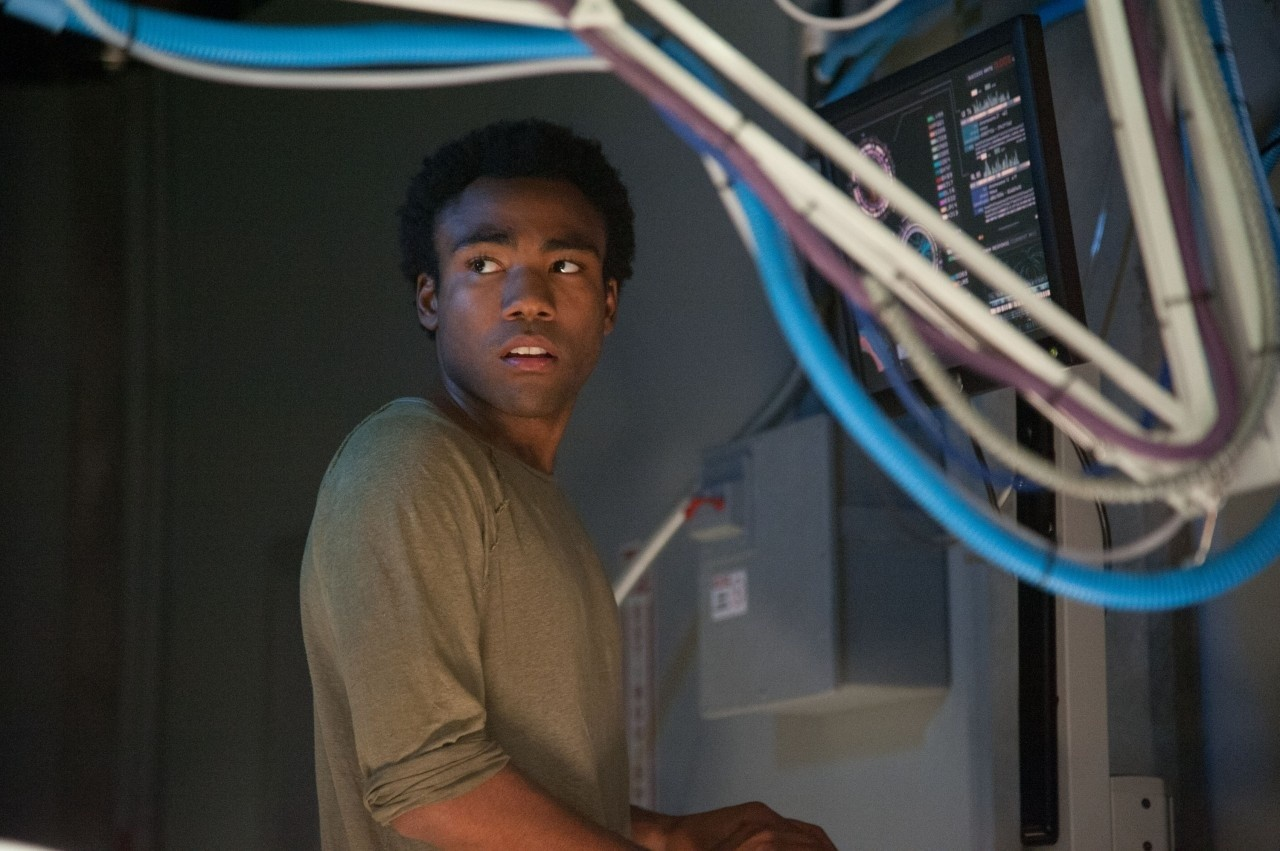face_no_mask: (400, 123, 618, 419)
